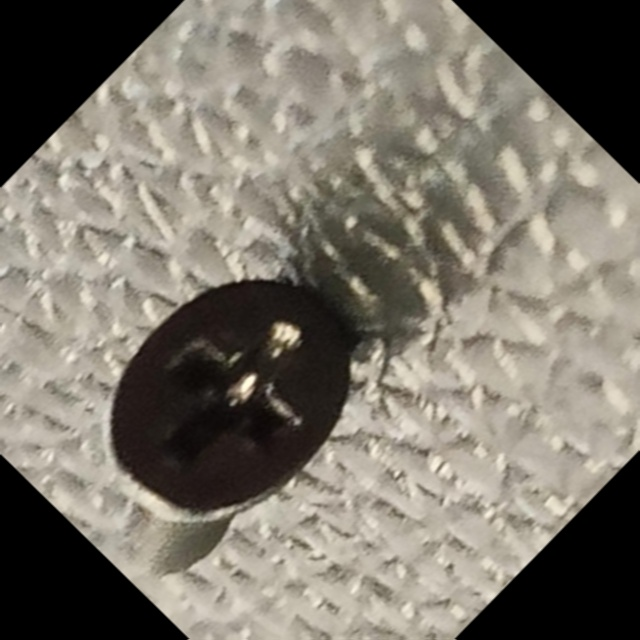phillips: (57, 227, 402, 573)
